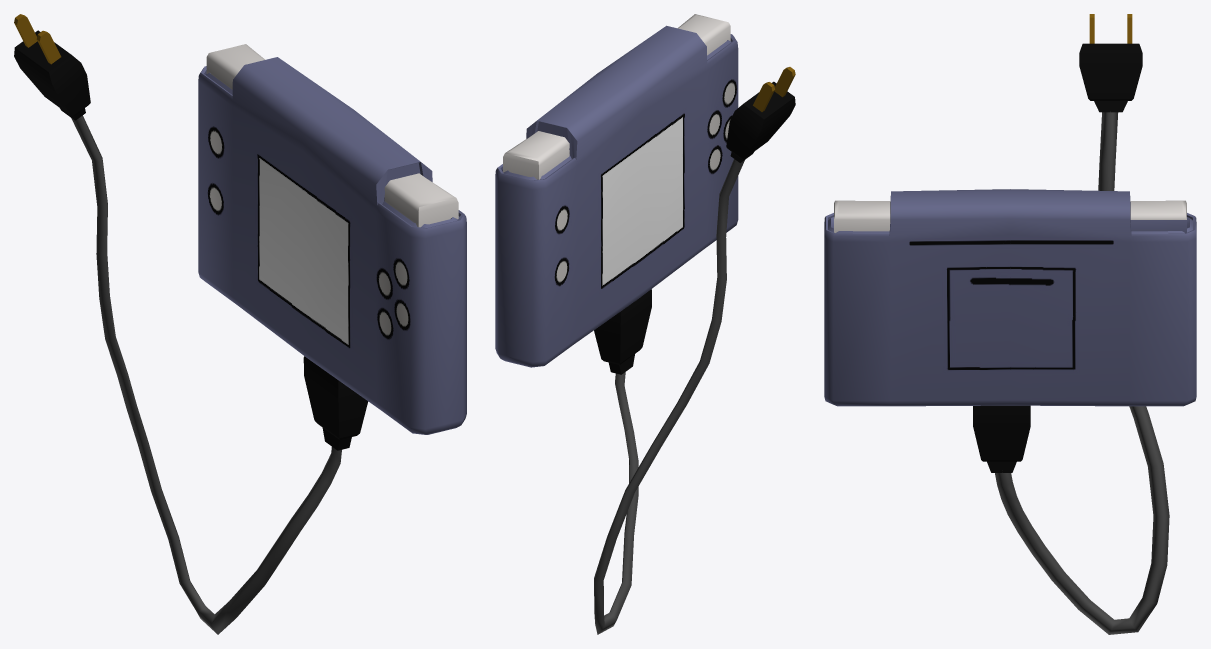
Rendered from consola zap.FBX.
The picture shows the model from 3 angles, left to right: view 1: azimuth 30°, elevation 25°; view 2: azimuth 150°, elevation 25°; view 3: azimuth 270°, elevation 25°; orthographic projection. The views are drawn at different scales.
Parts seen in each view (by area): view 1: Box002, Object001; view 2: Box002, Object001; view 3: Box002, Object001.
Boxes of the visible parts, x1,y1,x2,y2 form: Box002: [198, 44, 466, 434]; Object001: [14, 14, 368, 634]; Box002: [495, 14, 738, 367]; Object001: [594, 67, 795, 634]; Box002: [824, 189, 1196, 406]; Object001: [973, 14, 1169, 634].
Bounding box in the file's own units: 51.27 × 117 × 72.5.
